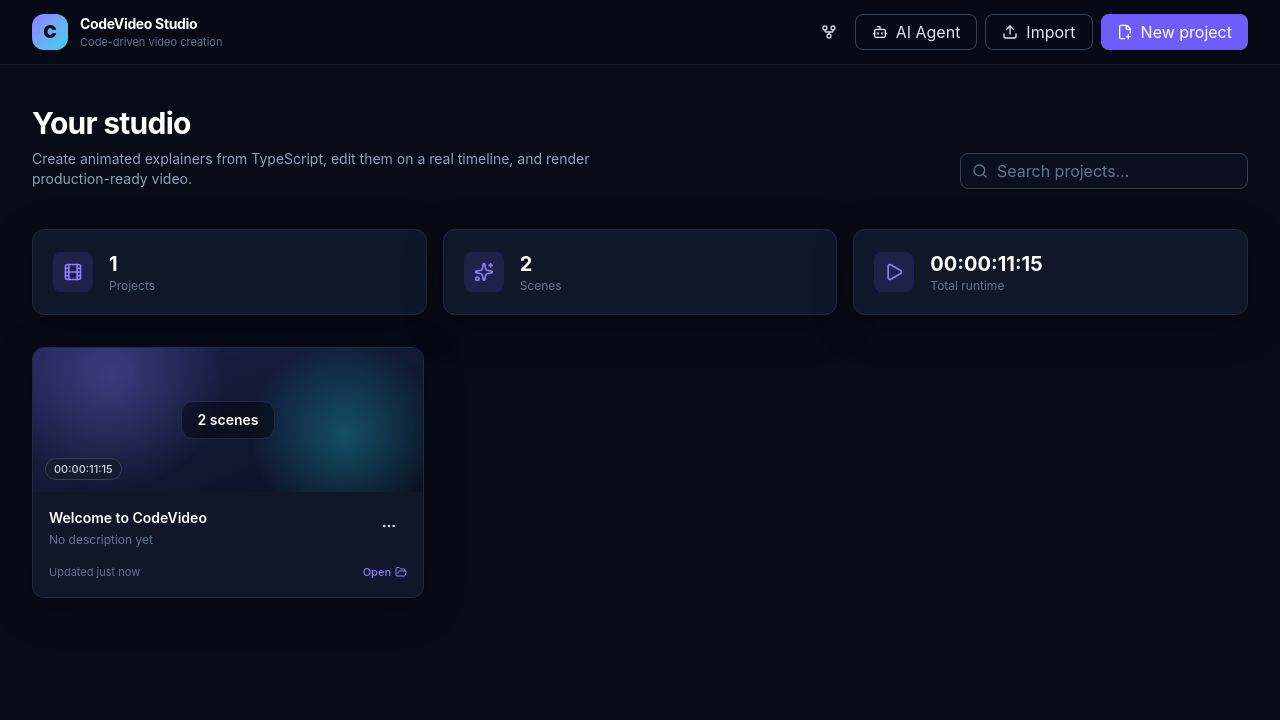
Scenario: CodeVideo Studio › renders the dashboard and creates a project
Expected: the heading "Your studio" is shown, x1=32 y1=105 x2=191 y2=141
Expected: the heading "Welcome to CodeVideo" is shown, x1=49 y1=508 x2=207 y2=528
Click the button "New project" at (1174, 32), box x1=1101 y1=14 x2=1248 y2=50
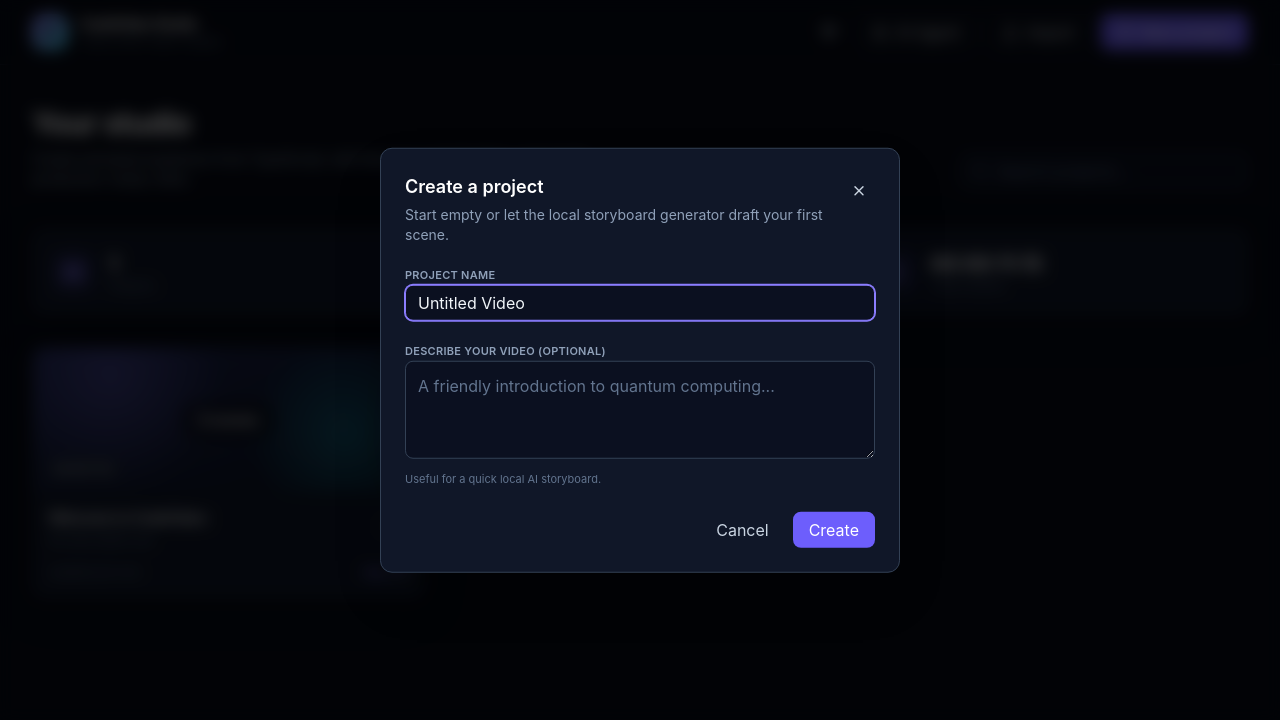
Replace the text in the field labelled "Project name" with "Explainer video" at (640, 303), box x1=405 y1=285 x2=875 y2=321
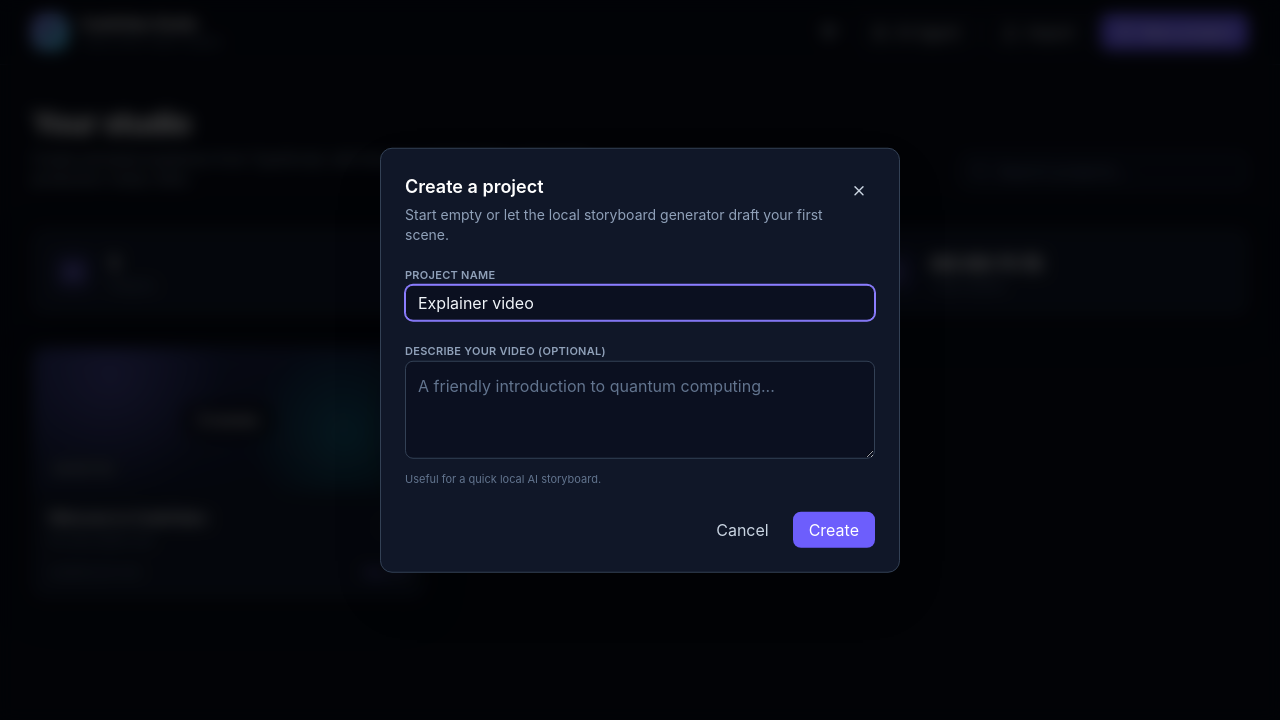
Click the button "Create" at (834, 529), box x1=793 y1=511 x2=875 y2=547
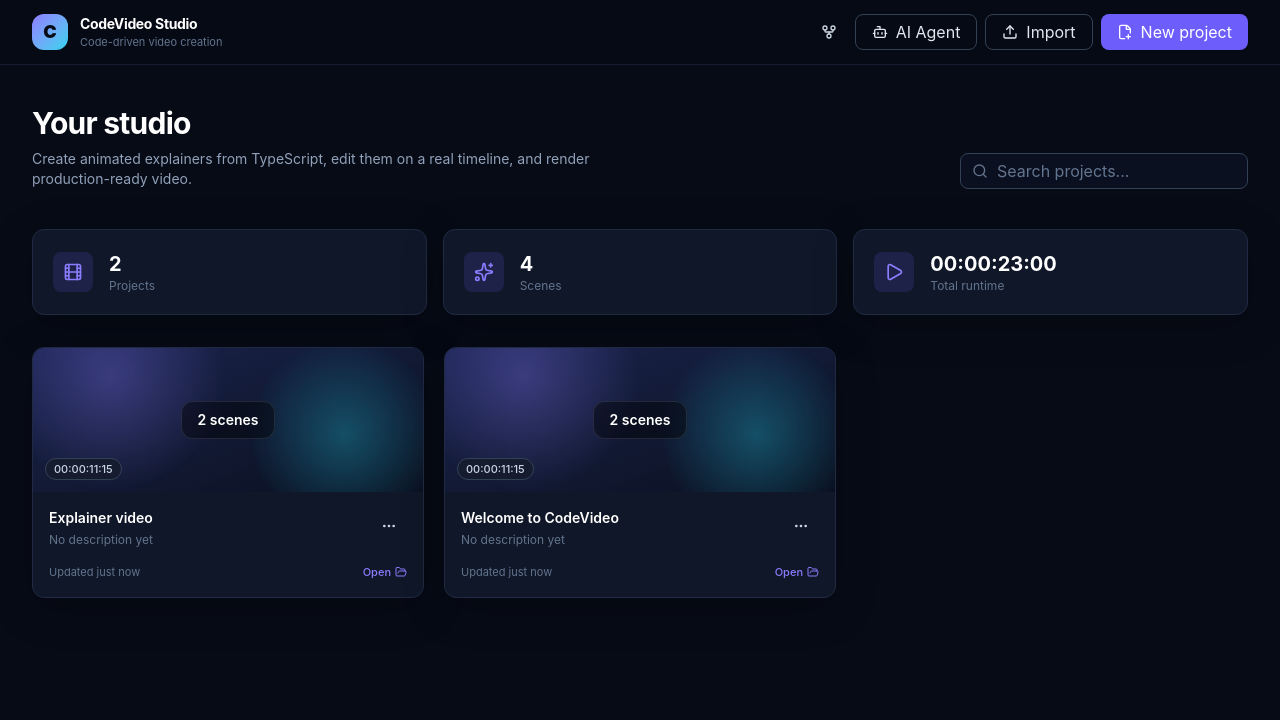
Expected: the heading "Explainer video" is shown, x1=49 y1=508 x2=153 y2=528
